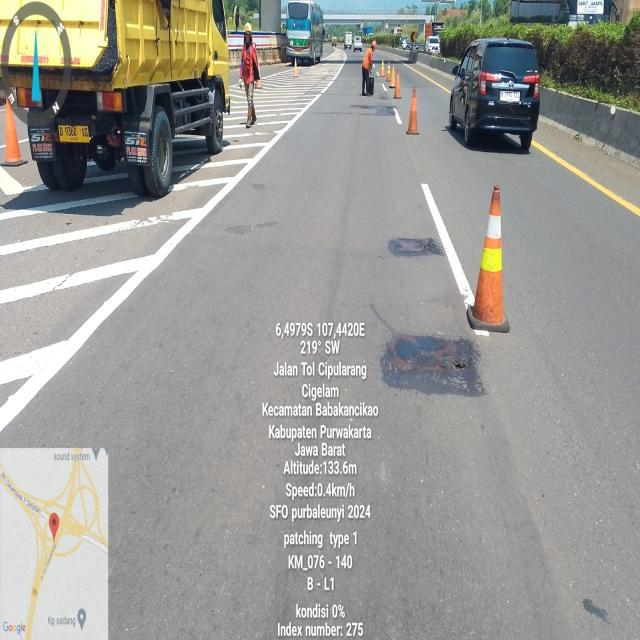Buraco: (448, 358, 473, 374), (420, 237, 437, 256), (229, 137, 243, 145)
